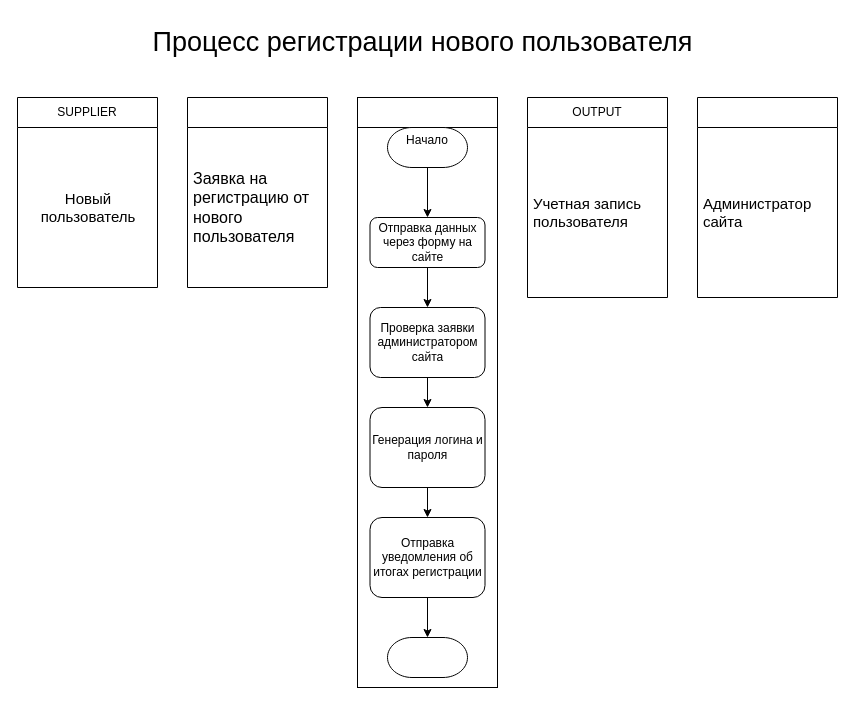
This 855x705 diagram has some shape labels left out. The shapes that lost their labels are listed below. From the top down, each one's box as (x1, y1, x2, y2) in pixels, then its label:
(356, 96, 498, 128): PROCESS
(186, 96, 328, 288): INPUT
(696, 96, 838, 298): CUSTOMER
(386, 636, 468, 678): Конец
